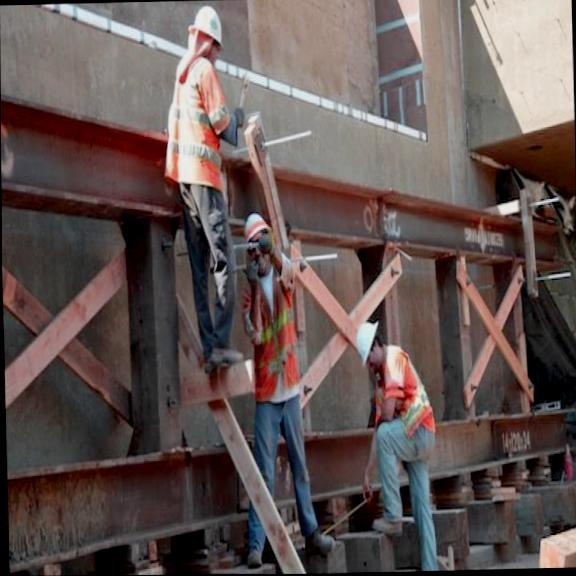safety_vest: (165, 52, 236, 203), (246, 262, 298, 397), (384, 347, 429, 432)
